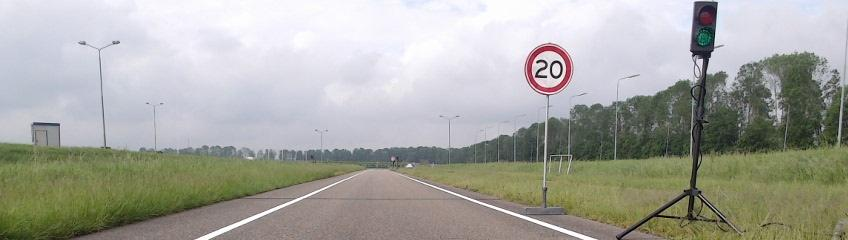Speed-limit-20km-h-: (524, 43, 573, 95)
TrafficLight-green: (690, 1, 717, 54)
